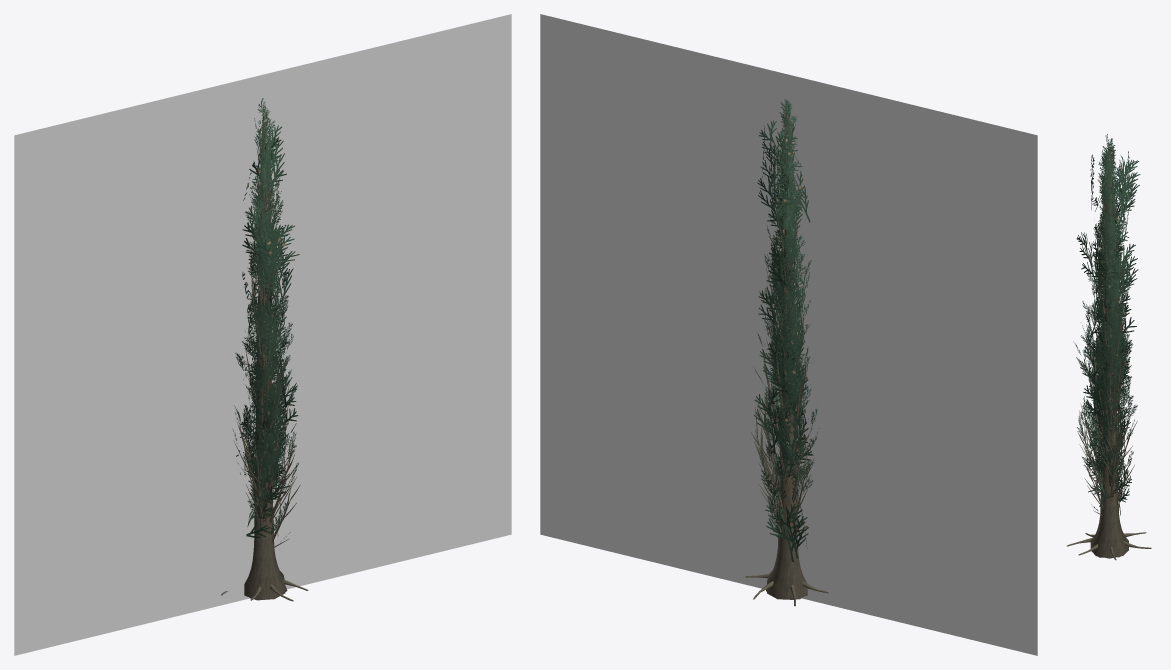
Rendered from cypres_vieux_a.fbx.
The picture shows the model from 3 angles, left to right: view 1: azimuth 30°, elevation 25°; view 2: azimuth 150°, elevation 25°; view 3: azimuth 270°, elevation 25°; orthographic projection. The views are drawn at different scales.
Parts seen in each view (by area): view 1: cypres_vieux_a_LOD3, cypres_vieux_a_LOD1, cypres_vieux_a_LOD2; view 2: cypres_vieux_a_LOD3, cypres_vieux_a_LOD1, cypres_vieux_a_LOD2; view 3: cypres_vieux_a_LOD1, cypres_vieux_a_LOD2.
Boxes of the visible parts, x1,y1,x2,y2 form: cypres_vieux_a_LOD3: (14,14,511,655); cypres_vieux_a_LOD1: (221,98,308,601); cypres_vieux_a_LOD2: (221,125,307,601); cypres_vieux_a_LOD3: (540,14,1037,655); cypres_vieux_a_LOD1: (745,99,828,606); cypres_vieux_a_LOD2: (746,120,826,605); cypres_vieux_a_LOD1: (1067,134,1151,559); cypres_vieux_a_LOD2: (1067,151,1150,559).
Size of what is drawn, in the model's own units: 16.22 by 16.22 by 3.02.
